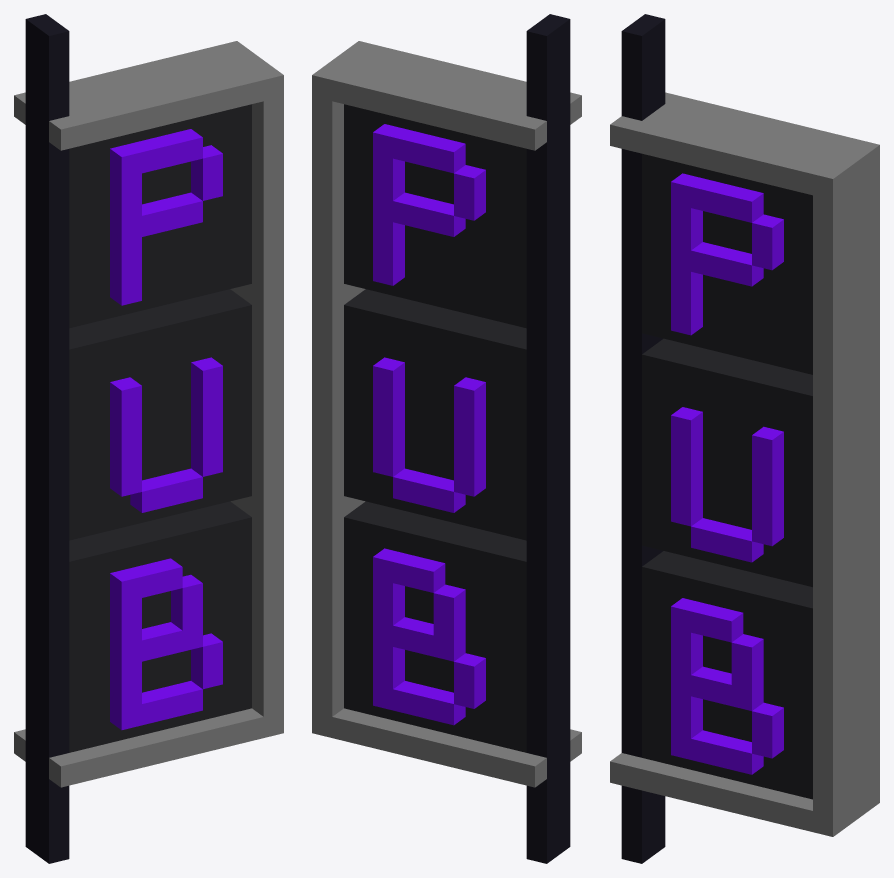
File: Signborad_008.obj
3 renders of one model, left to right at view 1: azimuth 30°, elevation 25°; view 2: azimuth 150°, elevation 25°; view 3: azimuth 330°, elevation 25°, orthographic.
Size of the model in its own units: 1.1 by 3.9 by 0.4.
Materials: 1 (1 with a texture image).
